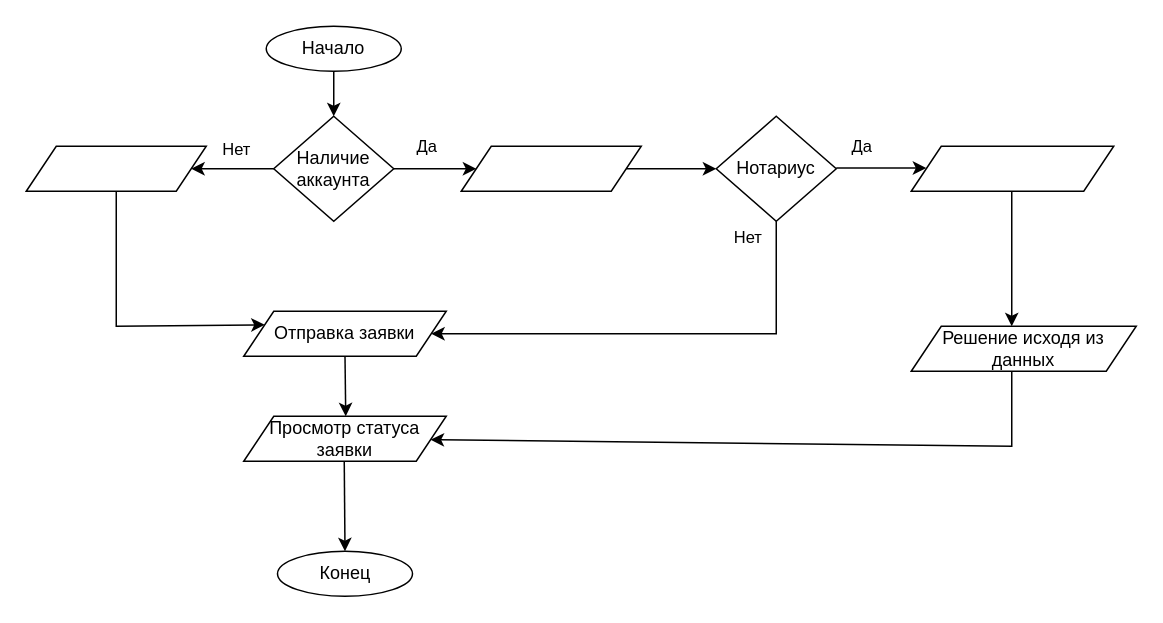
Image size: 1163x623. Some labels were removed from this diagram. Each missing label, with the centre of its shape:
"Авторизация" belongs at (x=550, y=168).
"Просмотр заявки" belongs at (x=1012, y=168).
"Регистрация" belongs at (x=115, y=168).
